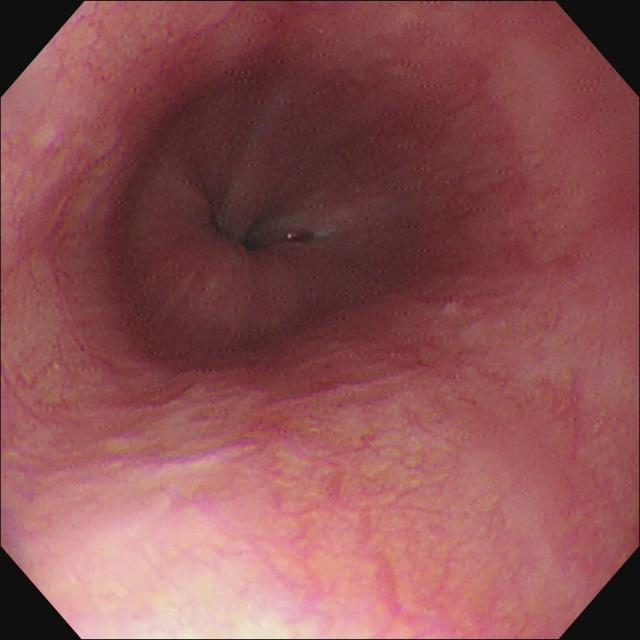I: (155, 119, 345, 309)
